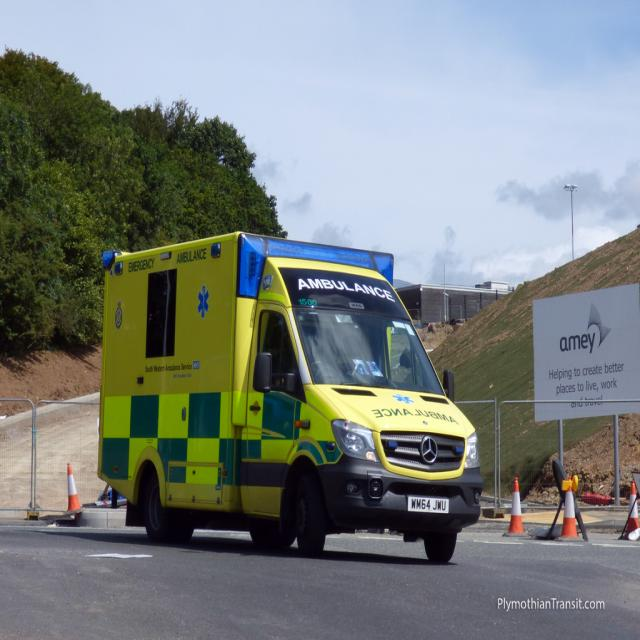Ambulance: (98, 228, 483, 566)
